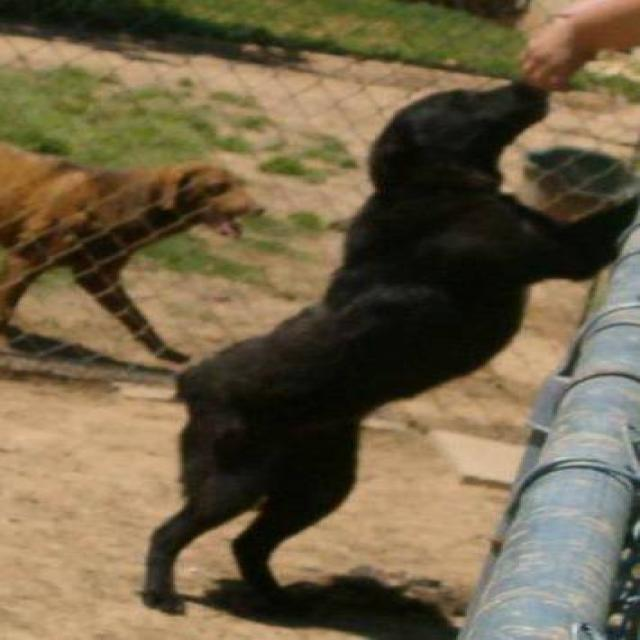dog: (137, 77, 638, 614), (0, 138, 265, 369)
